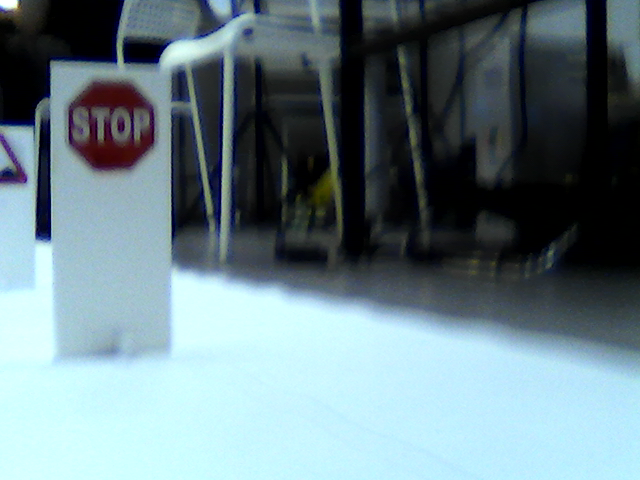Stop: (66, 78, 154, 168)
